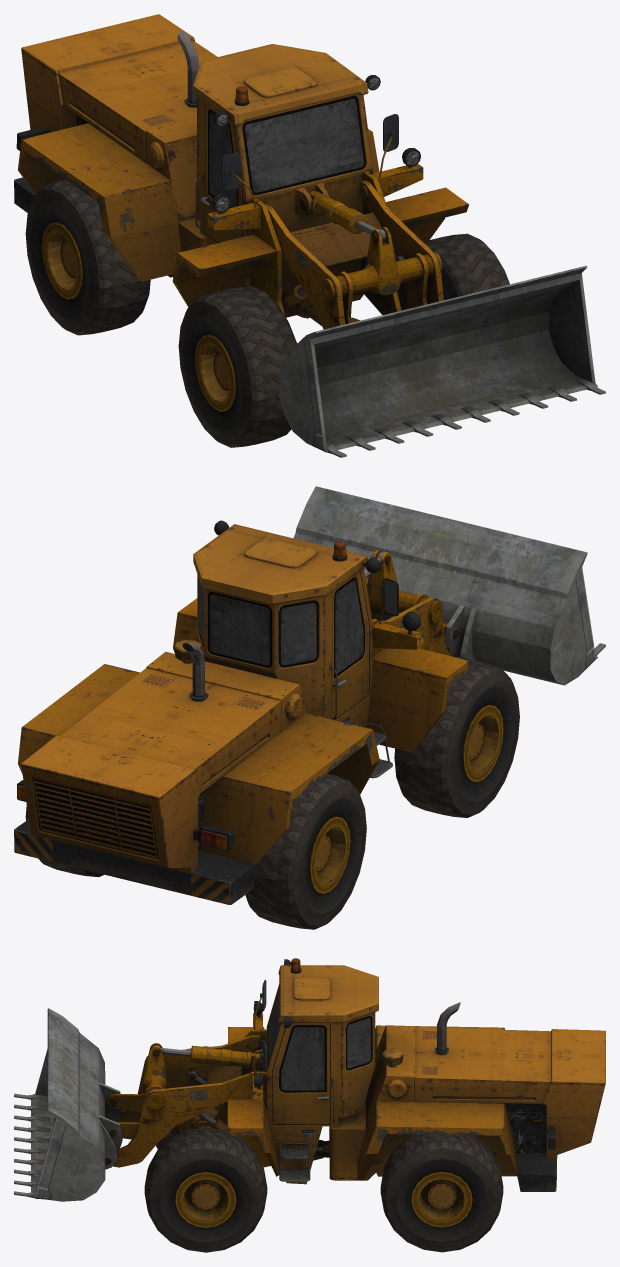
Rendered from meg.obj.
3 renders of one model, top to bottom at view 1: azimuth 30°, elevation 25°; view 2: azimuth 150°, elevation 25°; view 3: azimuth 270°, elevation 25°, orthographic. The views are drawn at different scales.
Visible parts, largest first — view 1: Model001_Model001_3__a9cdcb60dds_a9cdcb60dds_0_1_0_0, Model001_Model001_3__006c73d7dds_006c73d7dds_0_1_0_0, Model001_Model001_9__26b0fdafdds_26b0fdafdds_0_1_0_0; view 2: Model001_Model001_3__a9cdcb60dds_a9cdcb60dds_0_1_0_0, Model001_Model001_3__006c73d7dds_006c73d7dds_0_1_0_0, Model001_Model001_9__26b0fdafdds_26b0fdafdds_0_1_0_0; view 3: Model001_Model001_3__a9cdcb60dds_a9cdcb60dds_0_1_0_0, Model001_Model001_3__006c73d7dds_006c73d7dds_0_1_0_0, Model001_Model001_9__26b0fdafdds_26b0fdafdds_0_1_0_0.
Part boxes in pixels (left/top/right/bottom): Model001_Model001_3__a9cdcb60dds_a9cdcb60dds_0_1_0_0: left=14, top=14, right=605, bottom=457; Model001_Model001_3__006c73d7dds_006c73d7dds_0_1_0_0: left=25, top=179, right=509, bottom=447; Model001_Model001_9__26b0fdafdds_26b0fdafdds_0_1_0_0: left=208, top=96, right=366, bottom=208; Model001_Model001_3__a9cdcb60dds_a9cdcb60dds_0_1_0_0: left=14, top=486, right=605, bottom=904; Model001_Model001_3__006c73d7dds_006c73d7dds_0_1_0_0: left=25, top=657, right=519, bottom=929; Model001_Model001_9__26b0fdafdds_26b0fdafdds_0_1_0_0: left=198, top=577, right=364, bottom=678; Model001_Model001_3__a9cdcb60dds_a9cdcb60dds_0_1_0_0: left=14, top=958, right=605, bottom=1201; Model001_Model001_3__006c73d7dds_006c73d7dds_0_1_0_0: left=144, top=1046, right=503, bottom=1252; Model001_Model001_9__26b0fdafdds_26b0fdafdds_0_1_0_0: left=267, top=988, right=372, bottom=1092.
Size of the model in its own units: 3.68 by 3.8 by 8.96.
